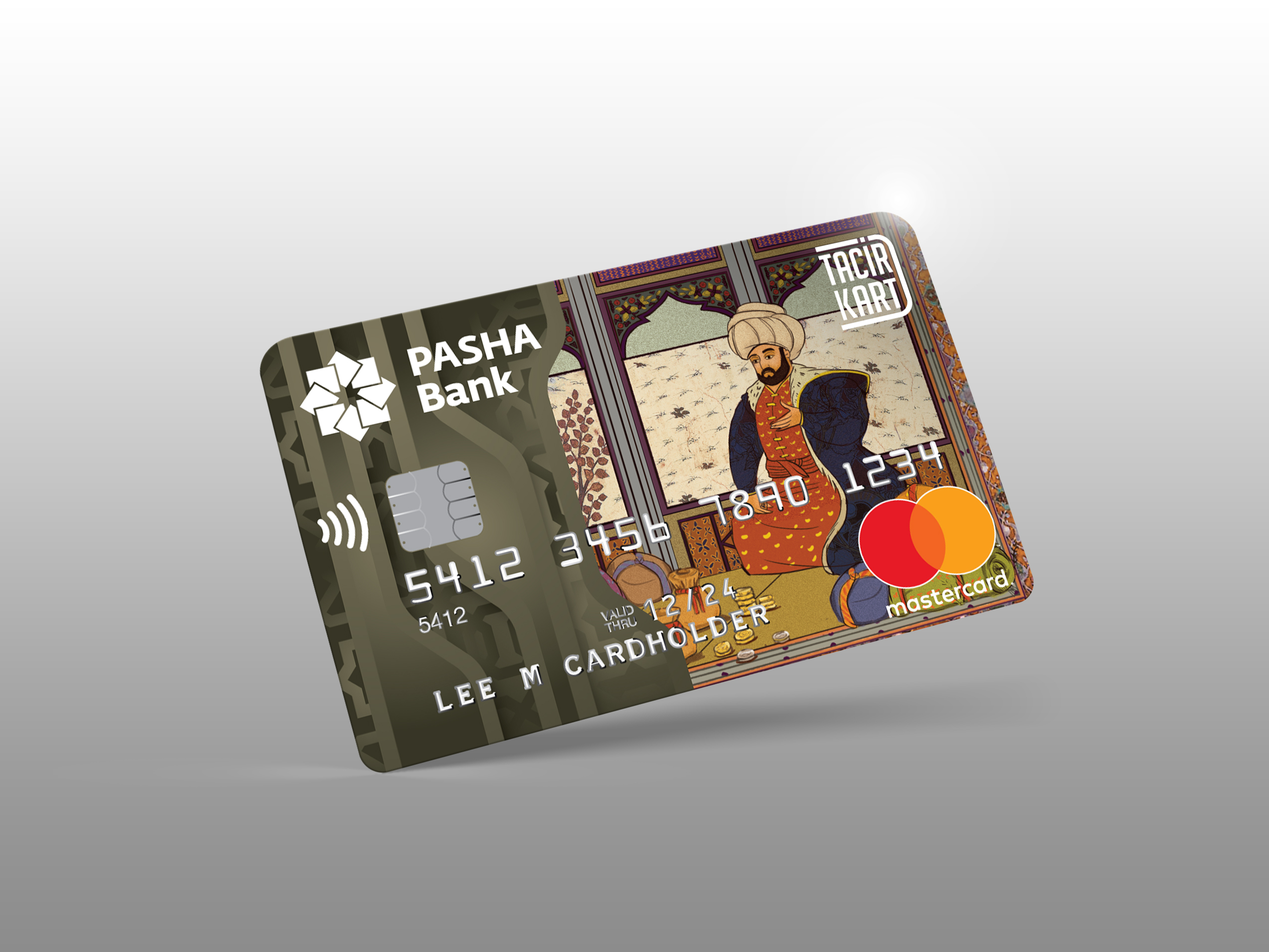Pasha Bank: (296, 347, 400, 447)
